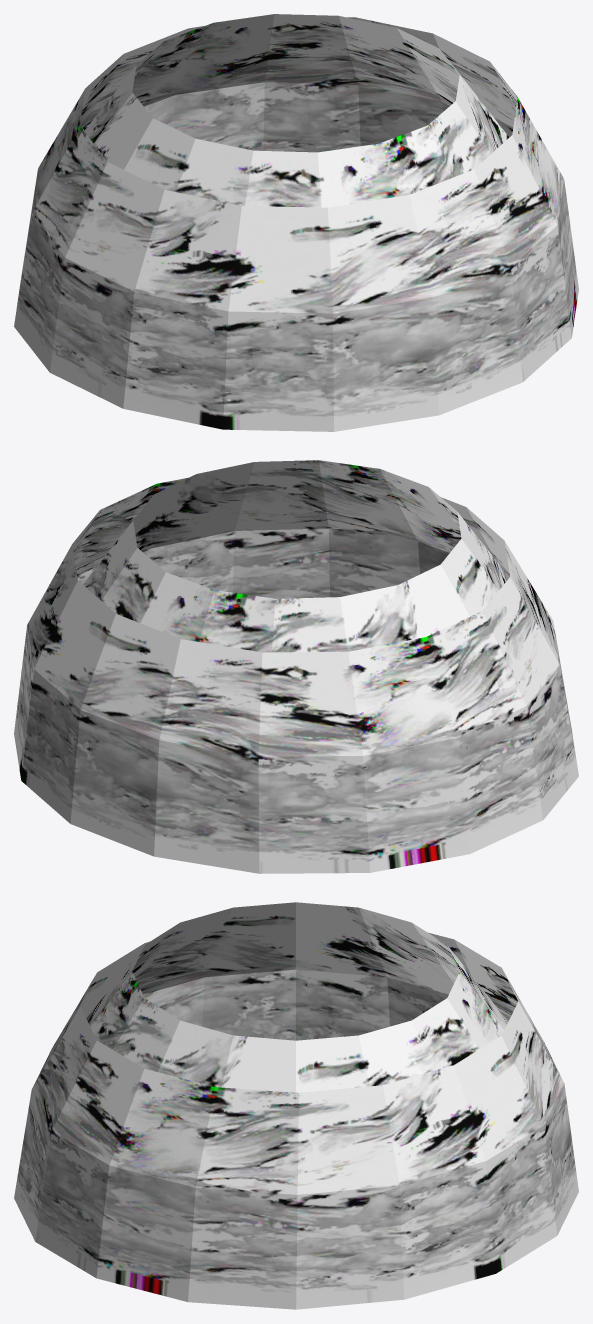
File: EventSkyFX_S8_Halloween.fbx
3 renders of one model, top to bottom at view 1: azimuth 30°, elevation 25°; view 2: azimuth 150°, elevation 25°; view 3: azimuth 270°, elevation 25°, orthographic.
Visible parts, largest first — view 1: Clouds_Halloween; view 2: Clouds_Halloween; view 3: Clouds_Halloween.
Boxes of the visible parts, left/top/right/bottom form: Clouds_Halloween: left=14, top=14, right=578, bottom=431; Clouds_Halloween: left=14, top=460, right=578, bottom=873; Clouds_Halloween: left=14, top=902, right=578, bottom=1309.
Bounding box in the file's own units: 560 × 250 × 561.
1 material, 1 textured.
